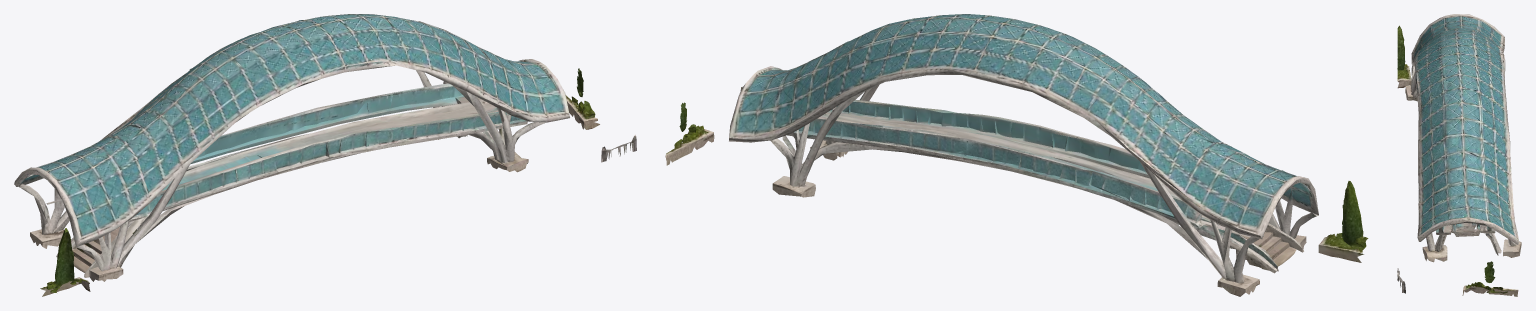
File: m_tb_peace.glb
3 views of the same model, side by side, from view 1: azimuth 30°, elevation 25°; view 2: azimuth 150°, elevation 25°; view 3: azimuth 270°, elevation 25° (orthographic). The views are drawn at different scales.
Size of the model in its own units: 1 by 0.2825 by 0.2324.
Materials: 1 (1 with a texture image).
